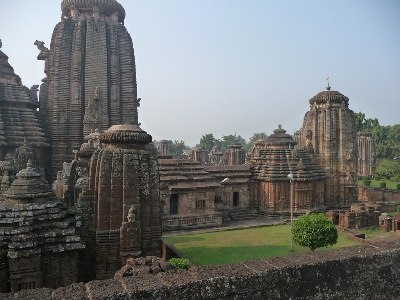amalaka: (94, 126, 157, 153), (304, 91, 354, 108)
gopuram: (35, 15, 149, 162), (83, 149, 174, 241), (294, 105, 370, 189)
